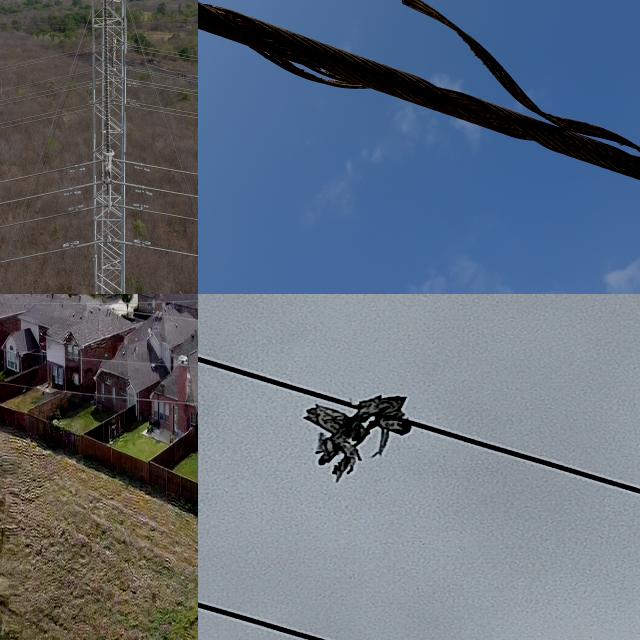杆塔: (82, 0, 136, 294)
植被遮挡: (297, 391, 420, 488)
正常绝缘子: (96, 0, 123, 183)
电缆破损: (198, 0, 640, 210)
